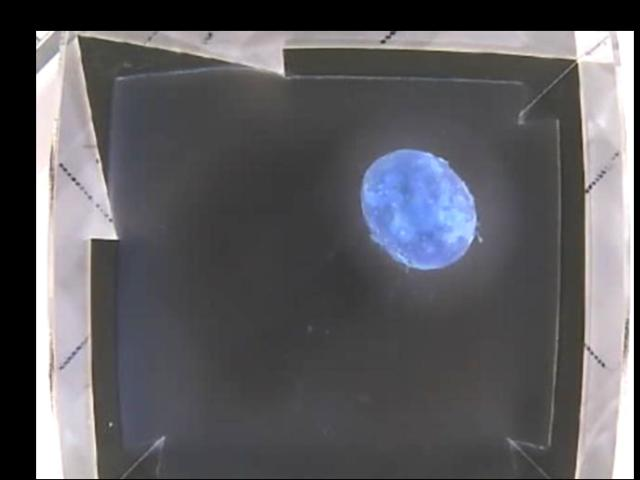Potato: (362, 150, 476, 269)
